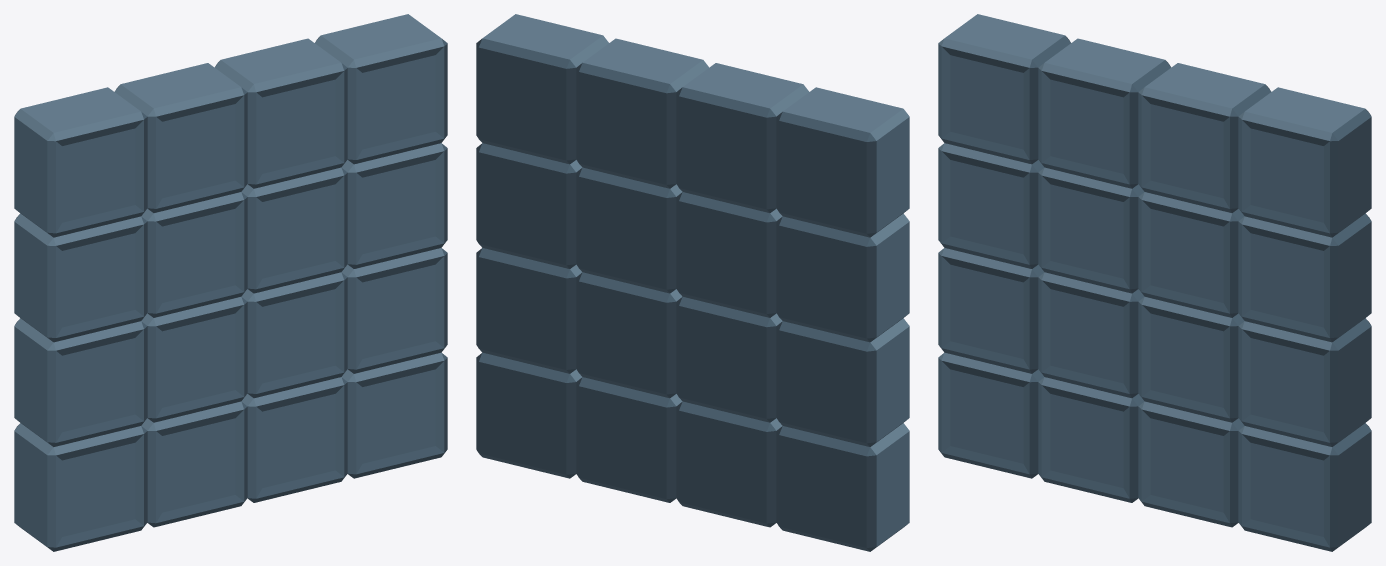
Rendered from Terrain_Block4x4.gltf.
3 views of the same model, side by side, from view 1: azimuth 30°, elevation 25°; view 2: azimuth 150°, elevation 25°; view 3: azimuth 330°, elevation 25° (orthographic).
Visible parts, largest first — view 1: Terrain_Block4x4_baked; view 2: Terrain_Block4x4_baked; view 3: Terrain_Block4x4_baked.
Part boxes in pixels (box(x1,y1,x2,y2)): Terrain_Block4x4_baked: box(14, 14, 447, 551); Terrain_Block4x4_baked: box(476, 14, 909, 551); Terrain_Block4x4_baked: box(938, 14, 1371, 551).
Bounding box in the file's own units: 4 × 4 × 0.6822.
